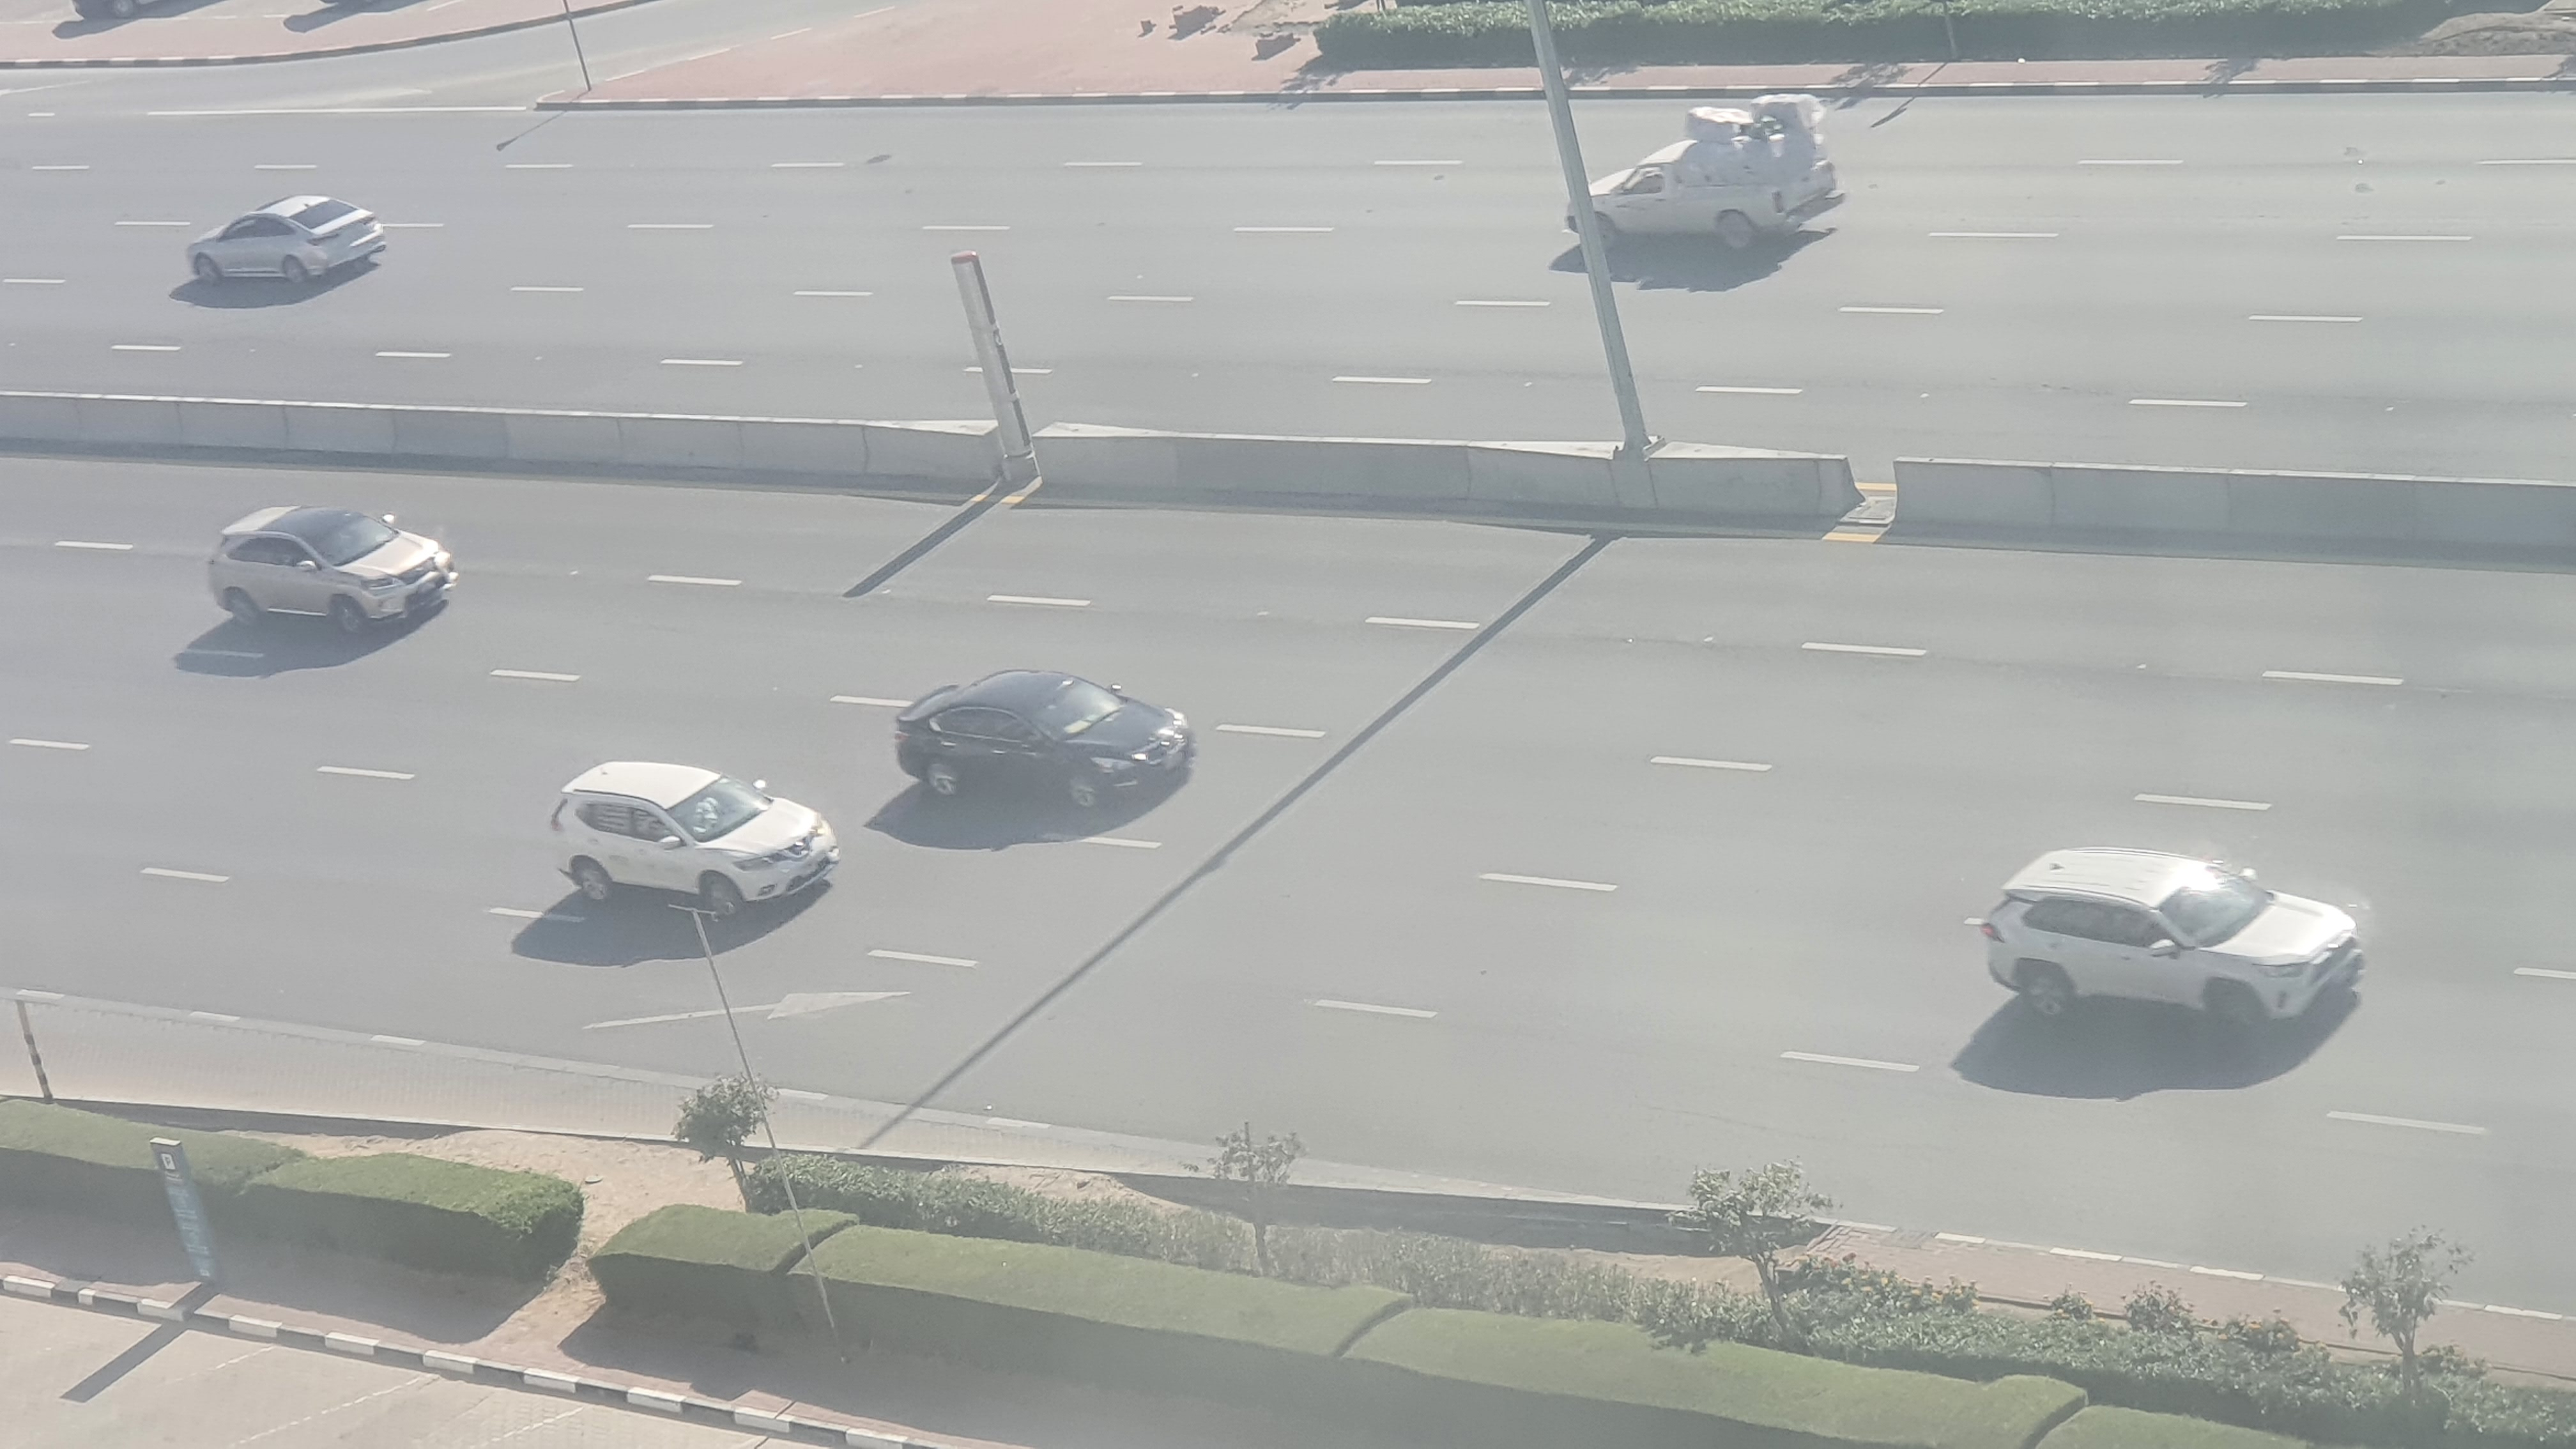NotSunroof: (1982, 832, 2373, 1044), (550, 754, 844, 924), (895, 669, 1201, 810)
Sunroof: (205, 502, 458, 635)
